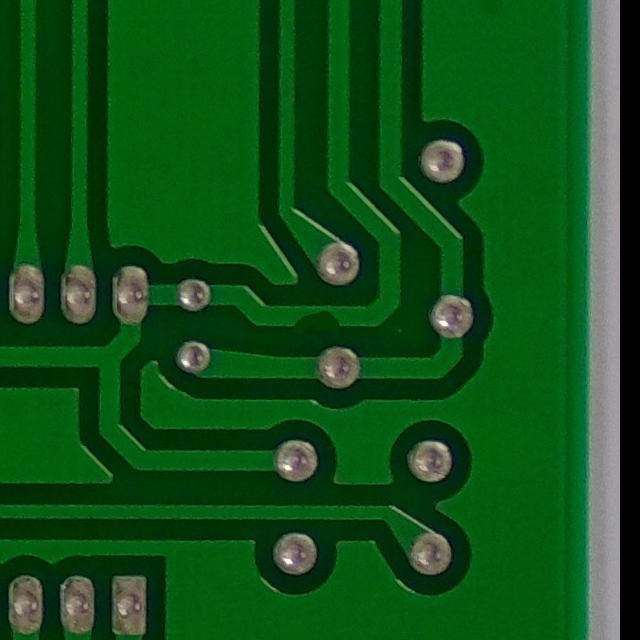mouse_bite: (277, 296, 364, 344)
